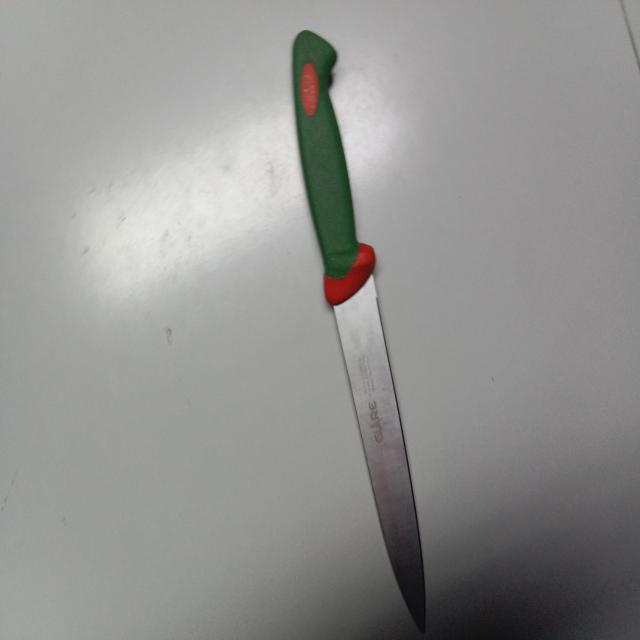Knife: (293, 29, 426, 632)
